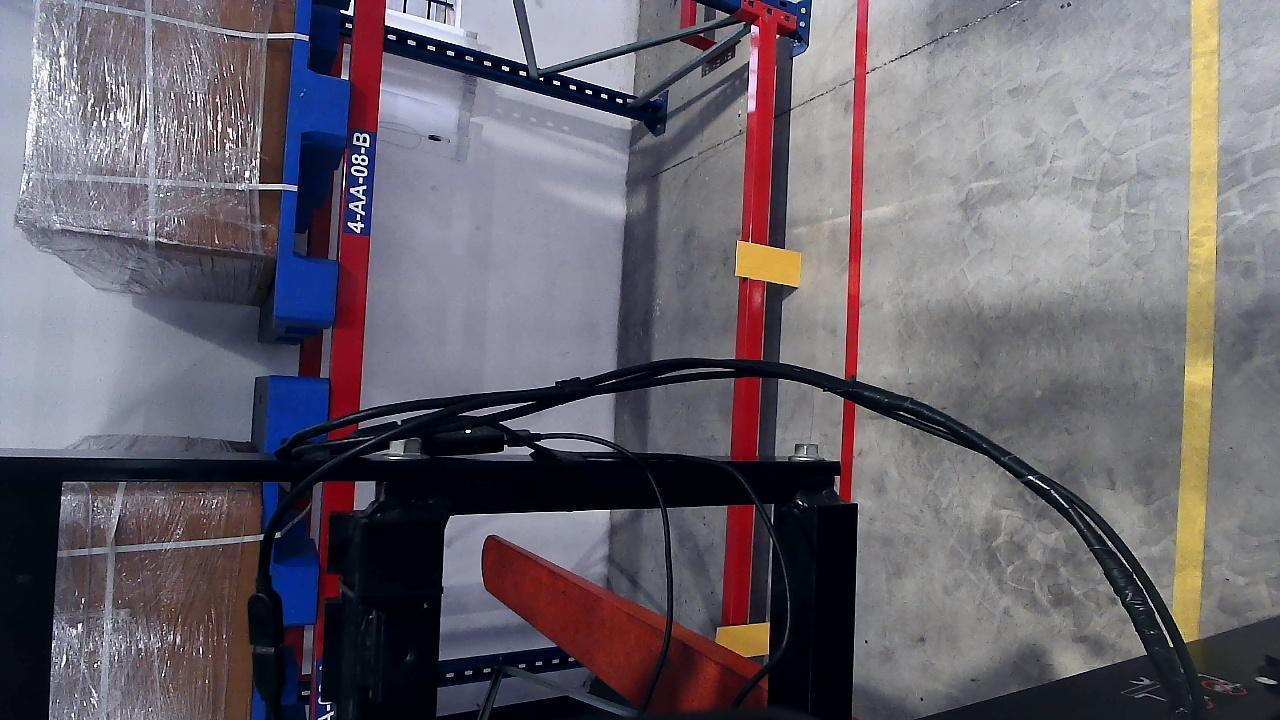red_line: (840, 0, 866, 500)
yellow_line: (1175, 9, 1221, 621)
